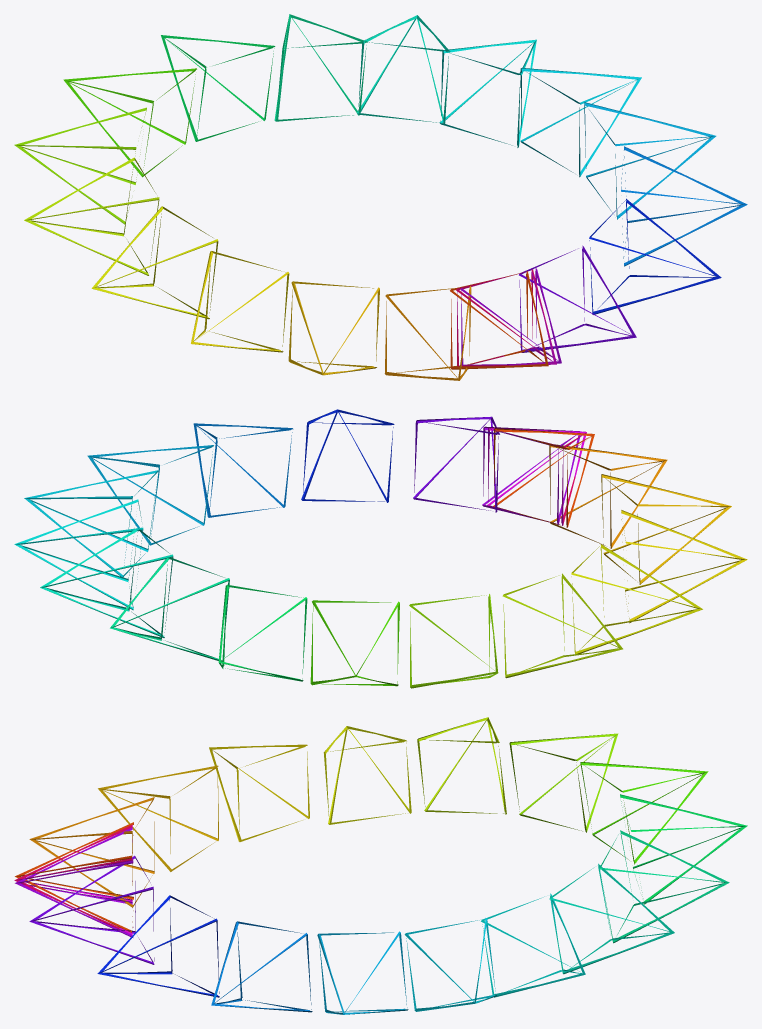
File: dungeon_omega.glb
3 views of the same model, one above another, from view 1: azimuth 30°, elevation 25°; view 2: azimuth 150°, elevation 25°; view 3: azimuth 270°, elevation 25° (orthographic). The views are drawn at different scales.
Visible parts, largest first — view 1: world; view 2: world; view 3: world.
Boxes of the visible parts, box(x1,y1,x2,y2) form: world: box(14, 14, 747, 380); world: box(14, 409, 747, 688); world: box(14, 717, 747, 1014).
Bounding box in the file's own units: 1.1 × 0.1966 × 1.18.
